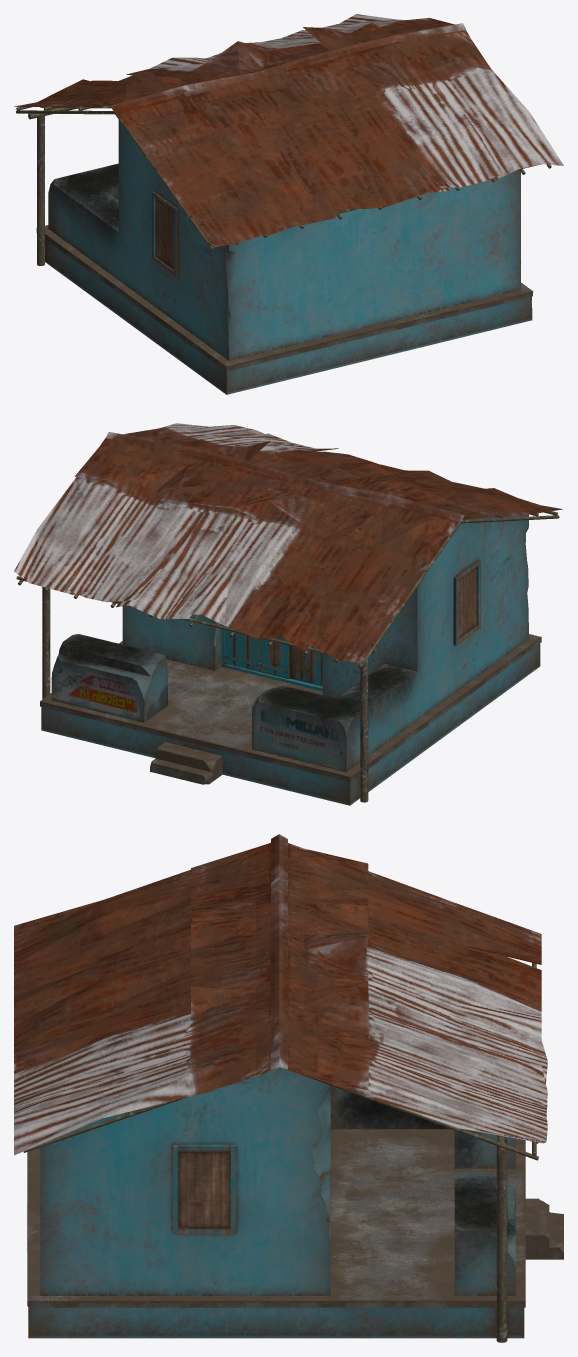
Rendered from rusty_old_tropical_shop.glb.
The picture shows the model from 3 angles, top to bottom: view 1: azimuth 30°, elevation 25°; view 2: azimuth 150°, elevation 25°; view 3: azimuth 270°, elevation 25°; orthographic projection. The views are drawn at different scales.
Visible parts, largest first — view 1: Object031_06 - Default_0; view 2: Object031_06 - Default_0; view 3: Object031_06 - Default_0.
Boxes of the visible parts, left/top/right/bottom form: Object031_06 - Default_0: left=14, top=14, right=563, bottom=394; Object031_06 - Default_0: left=14, top=423, right=562, bottom=805; Object031_06 - Default_0: left=14, top=834, right=563, bottom=1342.
Bounding box in the file's own units: 58.49 × 35.71 × 59.68.
1 material, 1 textured.
